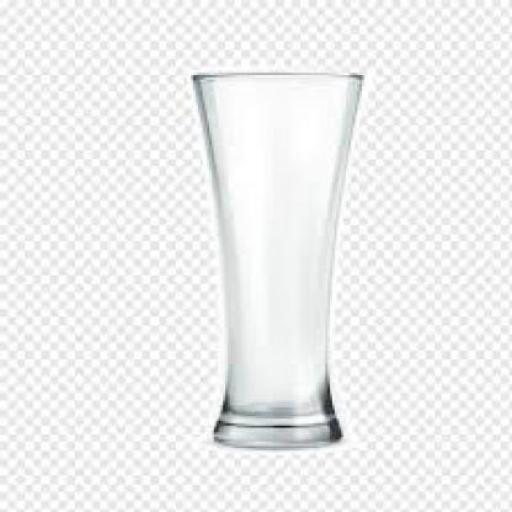glass: (189, 71, 360, 446)
